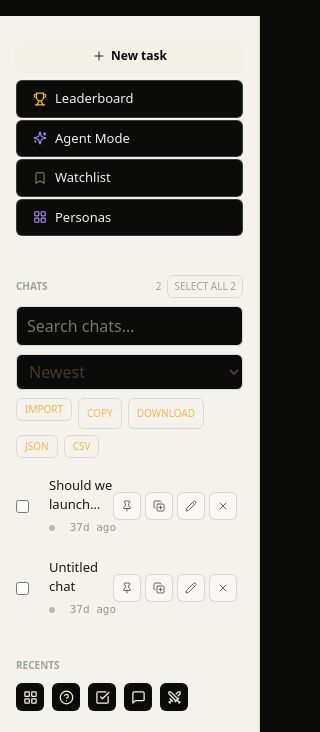
Test: Sidebar recent chats › shows a no-results message and restores chats after clearing
The image size is (320, 732).
Type "quantum" into the search field labelled "Search chats" at [130, 326], box 16,306 -> 243,346
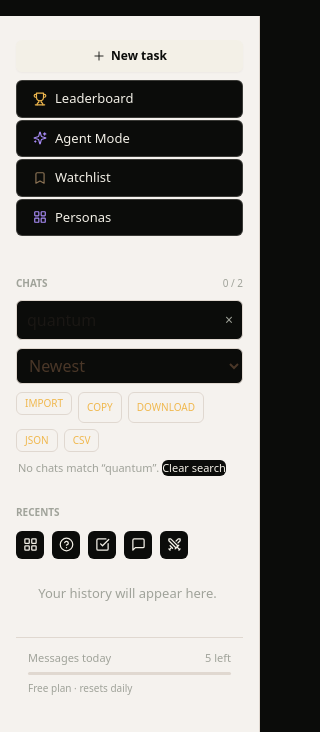
Now the text "No chats match “quantum”. Clear search" is shown, box 18,460 -> 241,476
Click the button named "Clear chat search" at [229, 320], box 221,309 -> 237,331
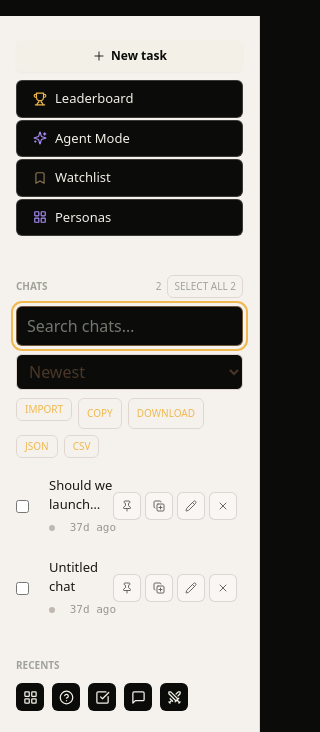
Now the text "Should we launch today?" is shown, box 49,476 -> 116,514
Now the text "Untitled chat" is shown, box 49,558 -> 98,595
